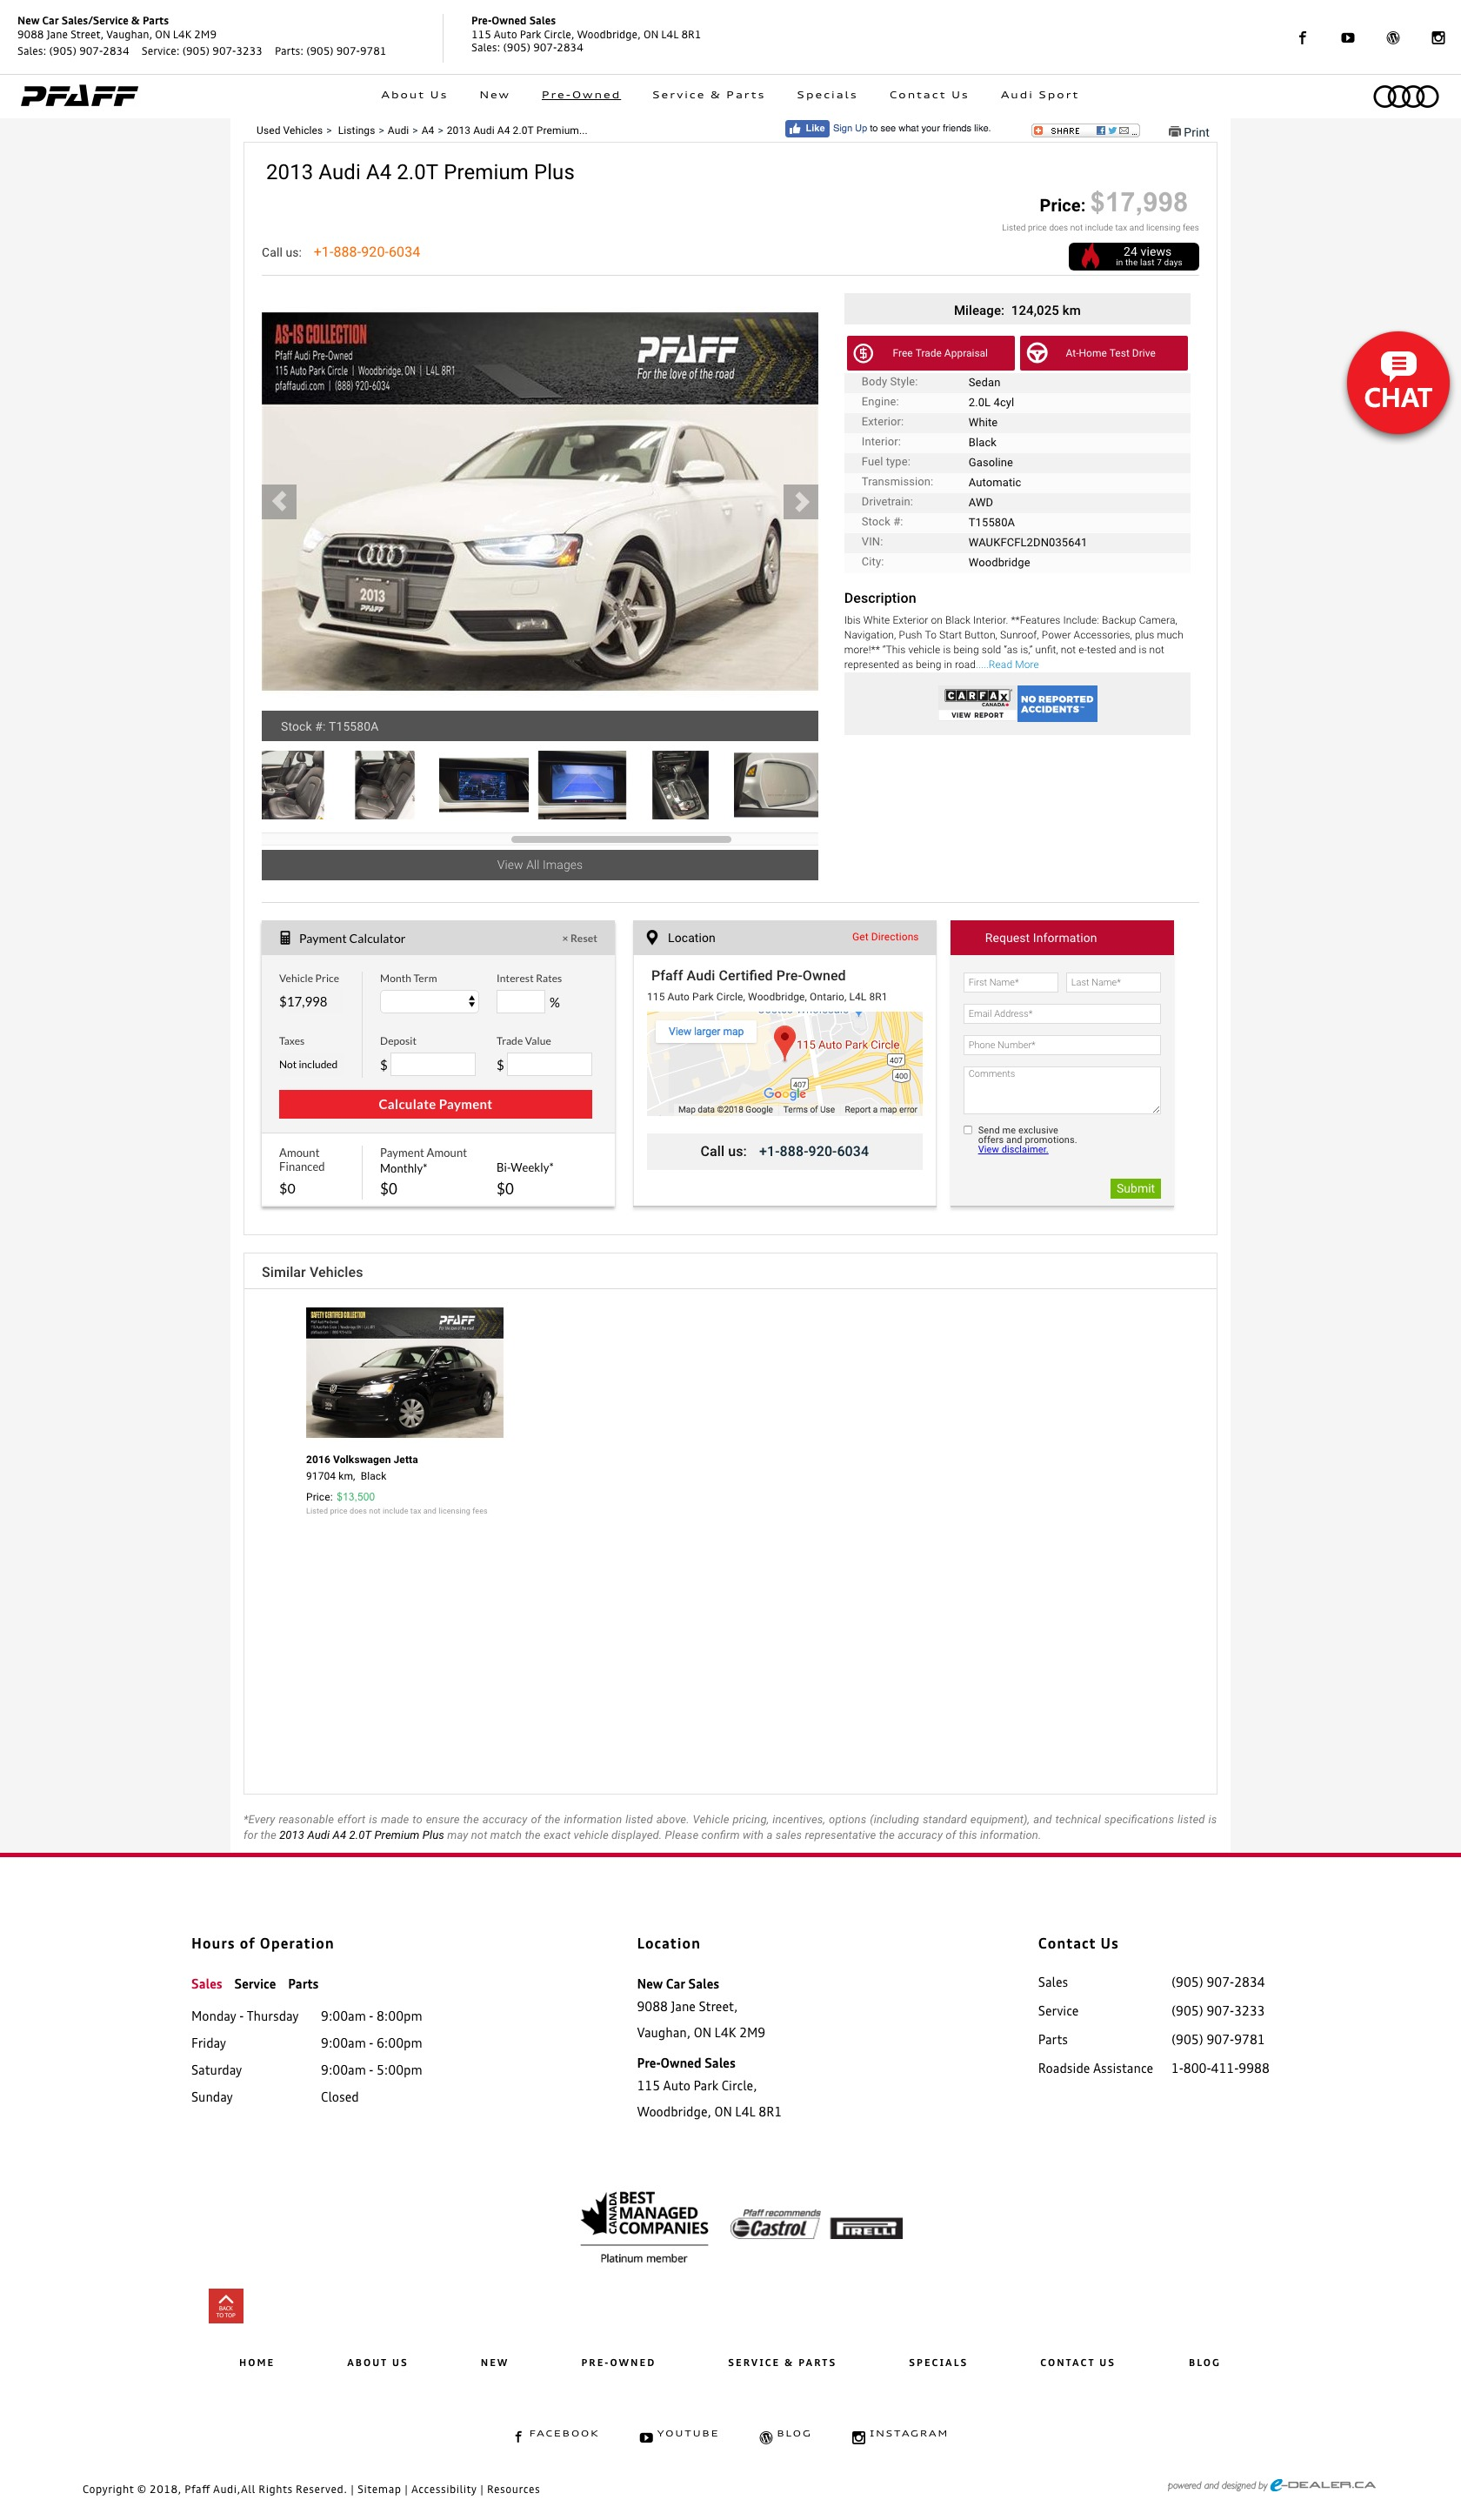car: (797, 492, 811, 515)
